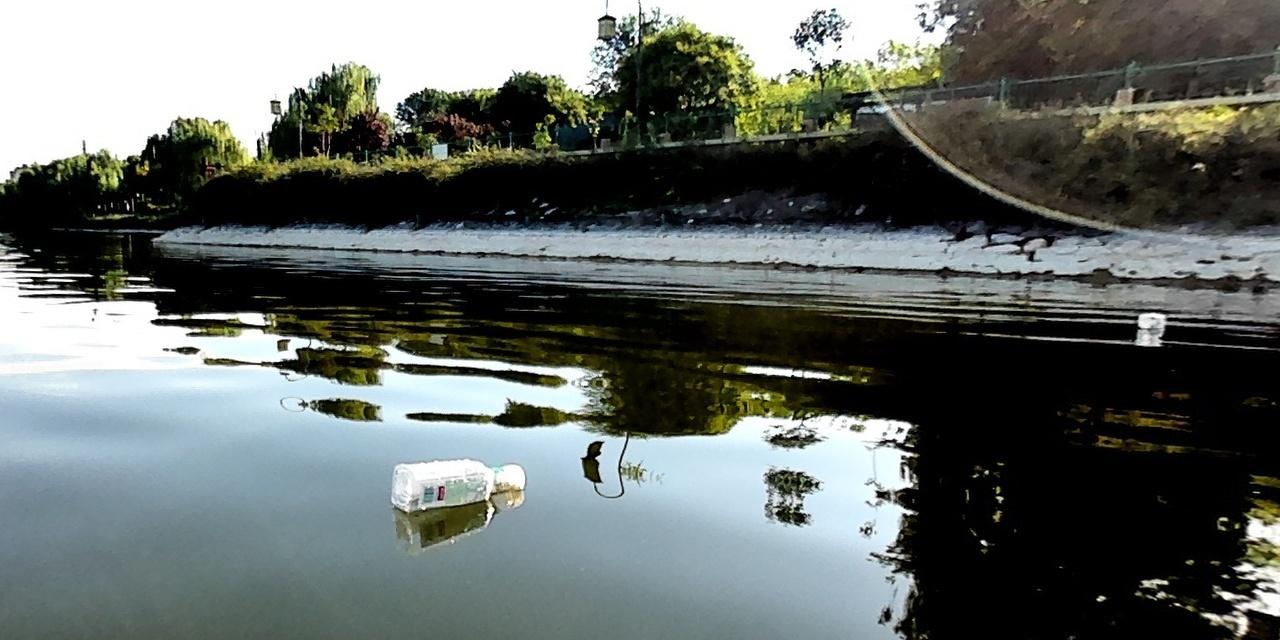bottle: (385, 455, 530, 516), (1135, 307, 1168, 330)
